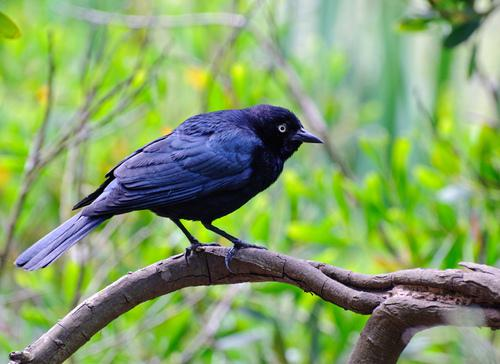009.Brewer_Blackbird: (13, 104, 322, 276)
